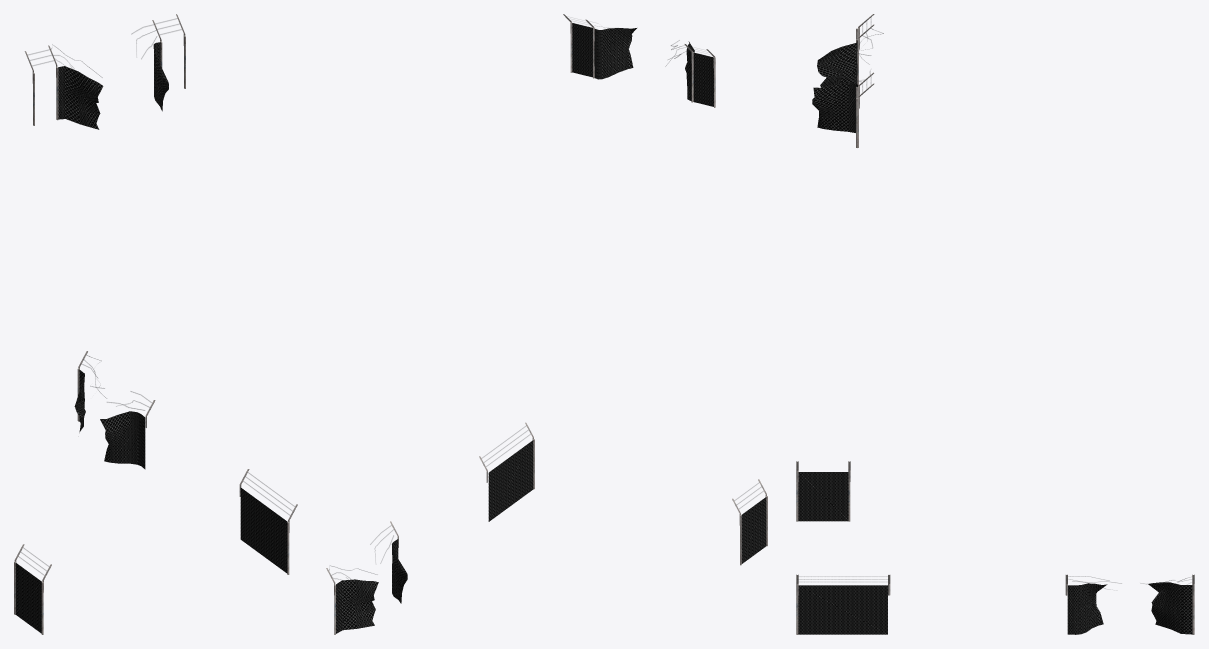
Rendered from fences.glb.
The picture shows the model from 3 angles, left to right: view 1: azimuth 30°, elevation 25°; view 2: azimuth 150°, elevation 25°; view 3: azimuth 270°, elevation 25°; orthographic projection. The views are drawn at different scales.
Visible parts, largest first — view 1: Object_2.001; view 2: Object_2.001; view 3: Object_2.001.
Part boxes in pixels (x1,y1,x2,y2): Object_2.001: (14, 14, 297, 634); Object_2.001: (326, 14, 767, 634); Object_2.001: (796, 14, 1194, 634).
Bounding box in the file's own units: 9.31 × 18.64 × 13.
4 materials, 4 textured.
